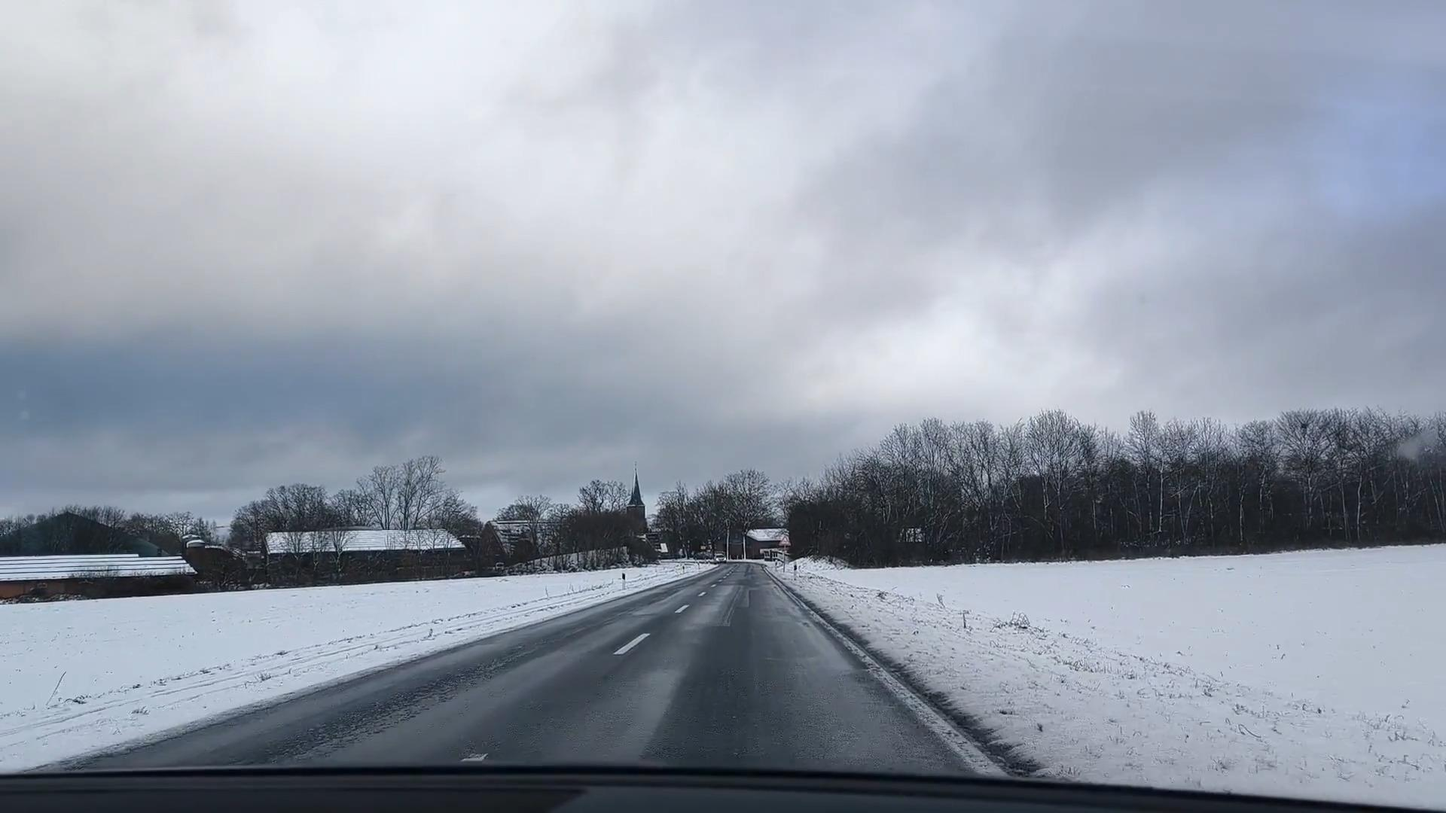Snow: (771, 543, 1446, 801), (0, 562, 712, 771)
wet: (23, 561, 1020, 775)
